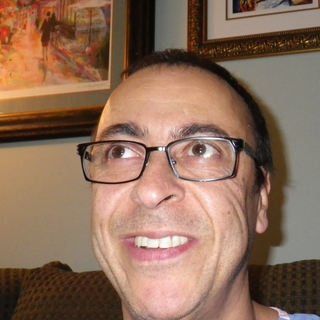eye: (98, 141, 139, 164), (179, 142, 223, 163)
